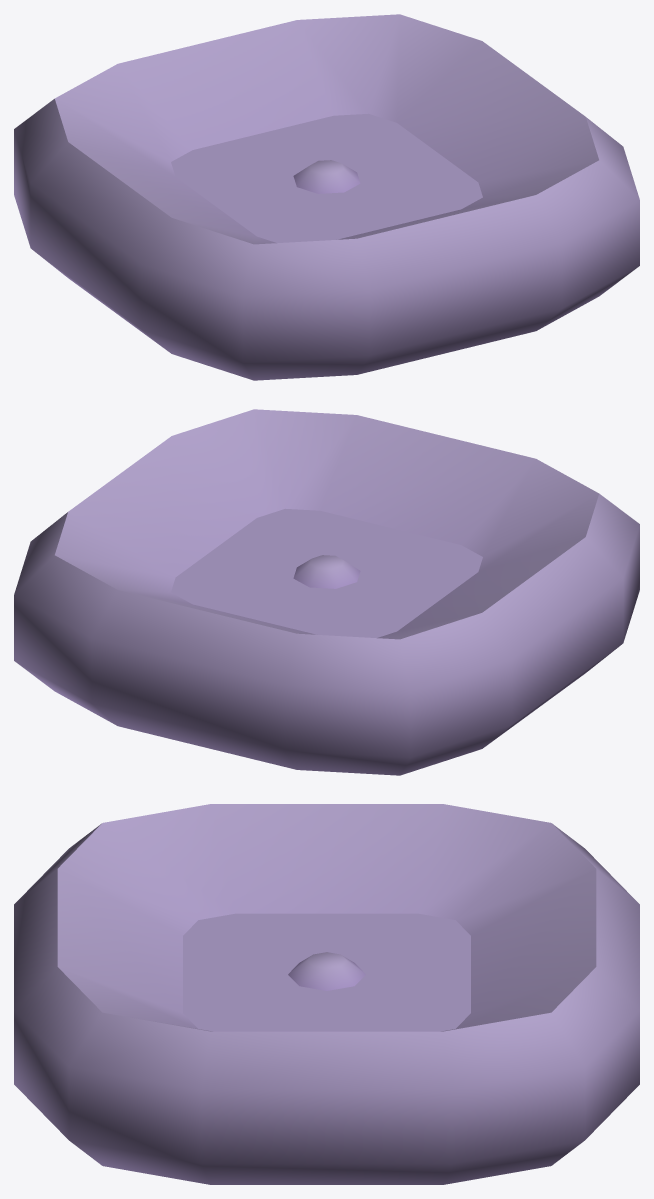
Rendered from cushion-indent-rounded (%thumbnail).glb.
3 renders of one model, top to bottom at view 1: azimuth 30°, elevation 25°; view 2: azimuth 150°, elevation 25°; view 3: azimuth 270°, elevation 25°, orthographic. The views are drawn at different scales.
Visible parts, largest first — view 1: cushion-indent-rounded (%thumbnail); view 2: cushion-indent-rounded (%thumbnail); view 3: cushion-indent-rounded (%thumbnail).
Part boxes in pixels (x1,y1,x2,y2): cushion-indent-rounded (%thumbnail): [14, 14, 639, 380]; cushion-indent-rounded (%thumbnail): [14, 409, 639, 775]; cushion-indent-rounded (%thumbnail): [14, 804, 639, 1184].
Bounding box in the file's own units: 0.5 × 0.1352 × 0.5.
